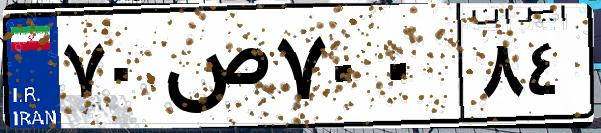0: (385, 28, 445, 110), (330, 28, 385, 110), (110, 28, 158, 98)
4: (525, 38, 570, 115)
7: (270, 28, 330, 110), (57, 26, 110, 100)
8: (475, 38, 525, 113)
ص: (158, 20, 270, 120)
